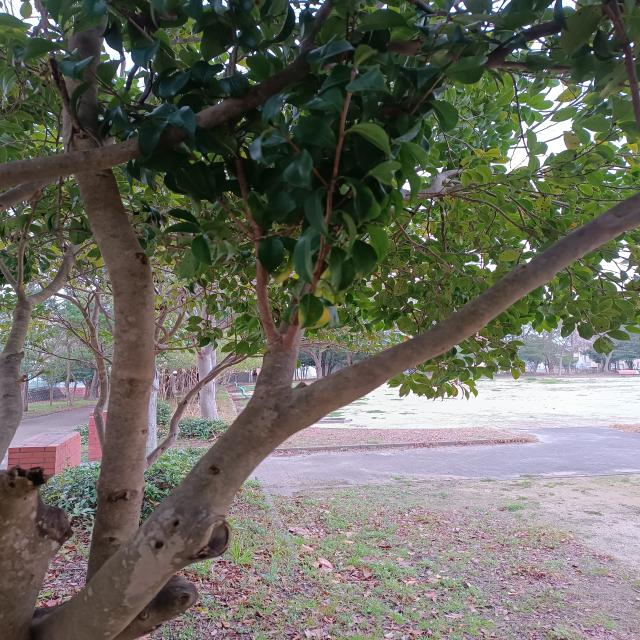Branch: (65, 387, 305, 640)
Twig: (1, 39, 505, 191), (311, 189, 638, 417), (488, 16, 574, 61), (253, 229, 278, 339), (254, 348, 299, 383), (491, 62, 575, 71)
